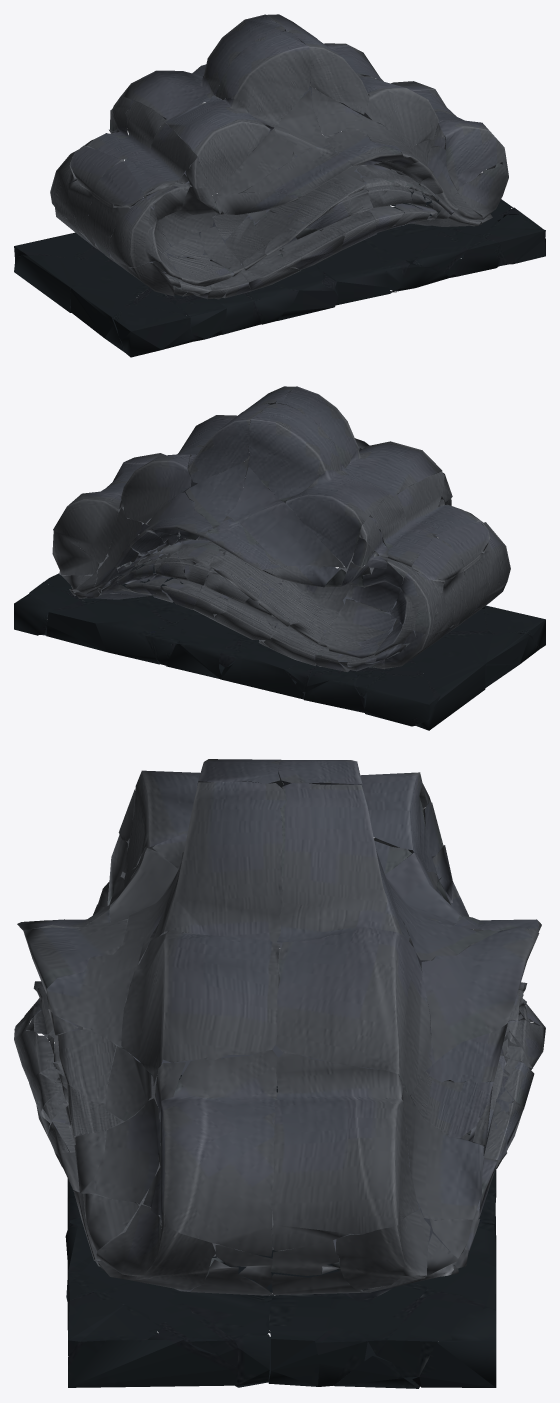
File: co_cloud.glb
3 views of the same model, one above another, from view 1: azimuth 30°, elevation 25°; view 2: azimuth 150°, elevation 25°; view 3: azimuth 270°, elevation 25° (orthographic). The views are drawn at different scales.
Parts seen in each view (by area): view 1: Mesh_0; view 2: Mesh_0; view 3: Mesh_0.
Part boxes in pixels (x1=…): Mesh_0: x1=14, y1=14, x2=545, y2=357; Mesh_0: x1=14, y1=386, x2=545, y2=730; Mesh_0: x1=14, y1=759, x2=545, y2=1388.
Bounding box in the file's own units: 1.9 × 1.02 × 1.15.
1 material, 1 textured.
